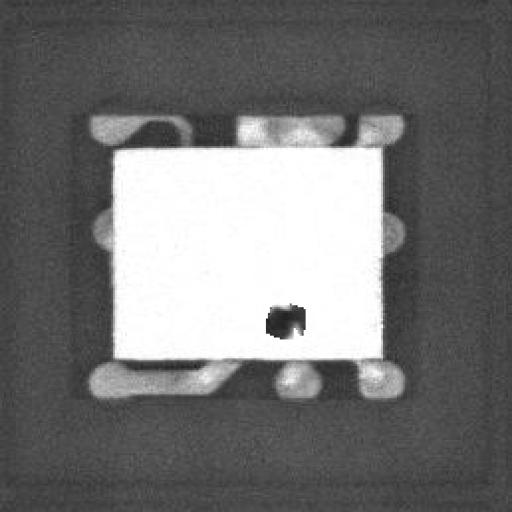DIE_INK: (264, 302, 310, 340)
